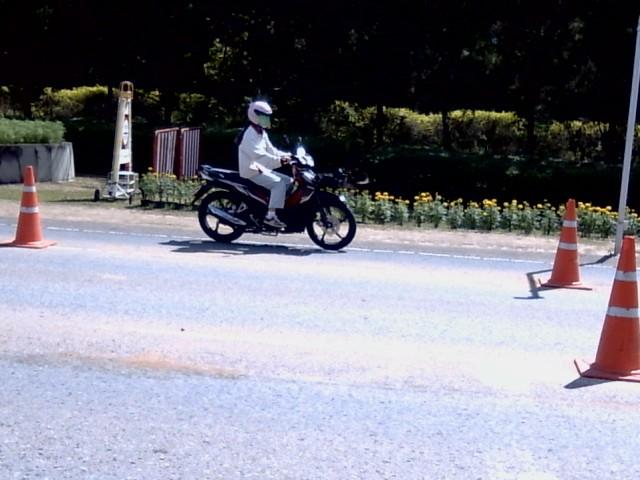helmet: (245, 91, 274, 128)
motor: (192, 146, 356, 249)
person: (239, 100, 292, 227)
